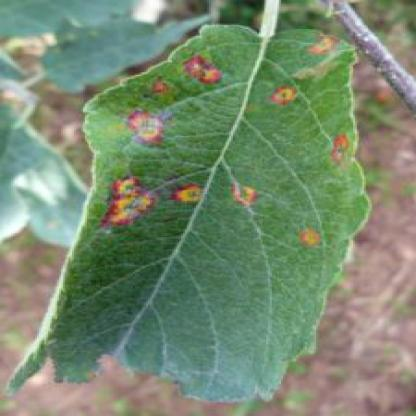apple rust leaf: (65, 14, 379, 410)
